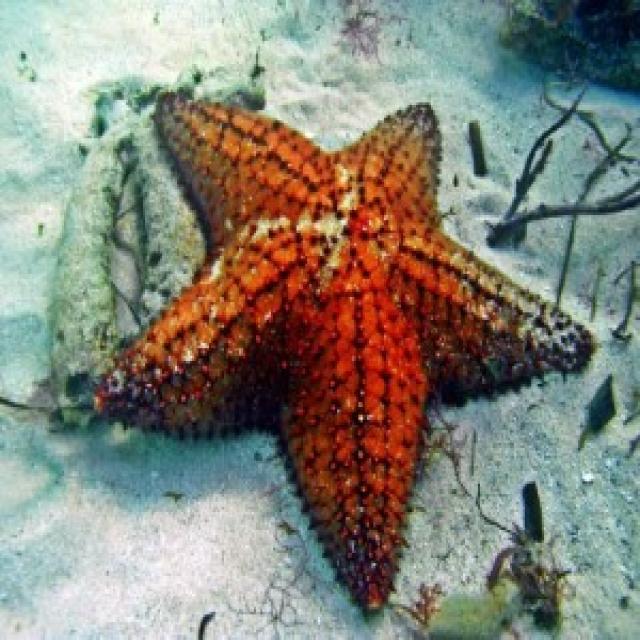Starfish: (97, 80, 595, 601)
